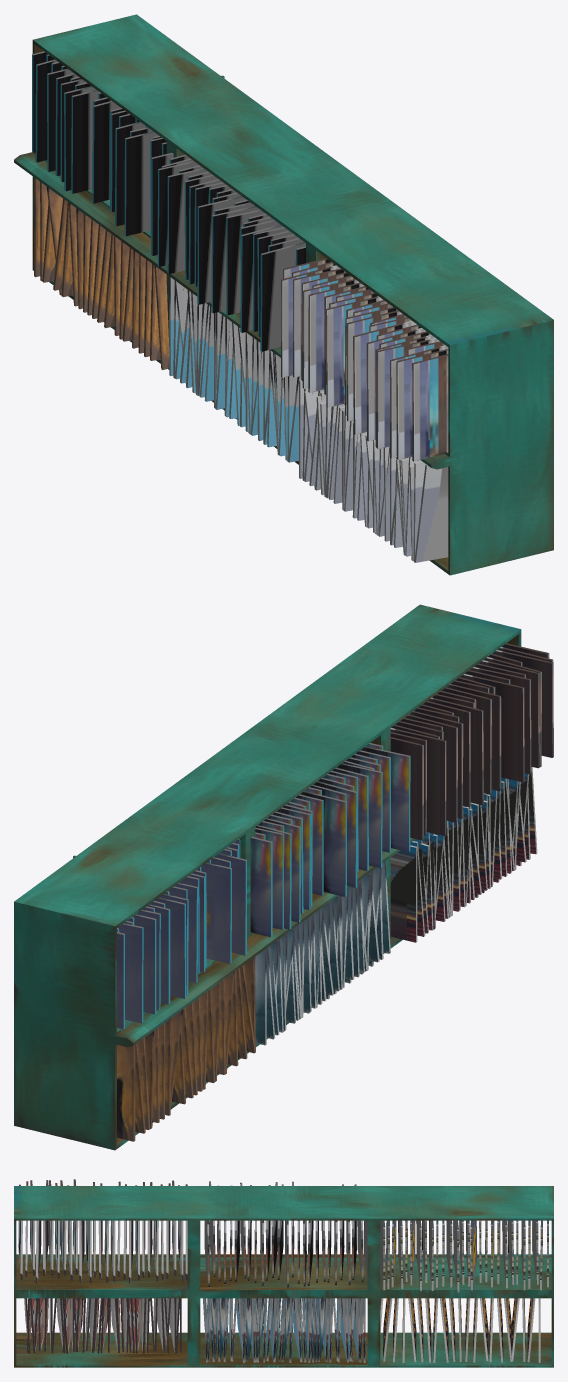
The model's file is estanterias.fbx.
3 renders of one model, top to bottom at view 1: azimuth 30°, elevation 25°; view 2: azimuth 150°, elevation 25°; view 3: azimuth 270°, elevation 25°, orthographic. The views are drawn at different scales.
Visible parts, largest first — view 1: estanterias; view 2: estanterias; view 3: estanterias.
Boxes of the visible parts, left/top/right/bottom form: estanterias: left=14, top=14, right=553, bottom=575; estanterias: left=14, top=604, right=553, bottom=1150; estanterias: left=14, top=1179, right=553, bottom=1367.
Size of the model in its own units: 74.84 by 99.64 by 325.
